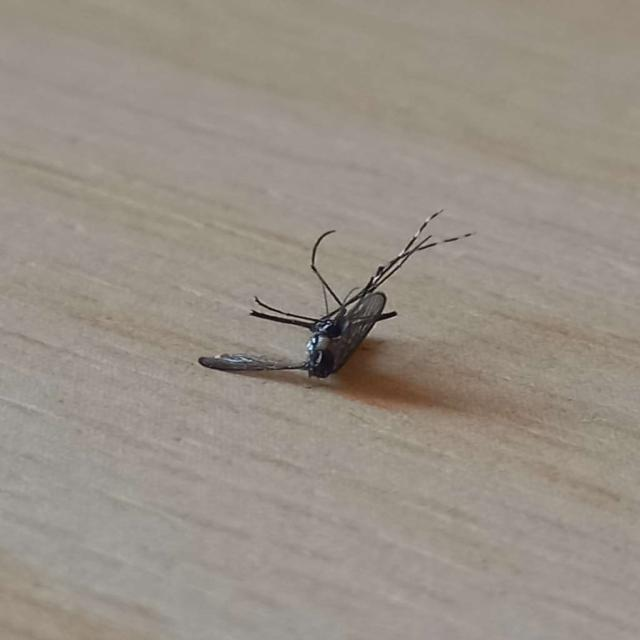albopictus: (194, 199, 476, 392)
